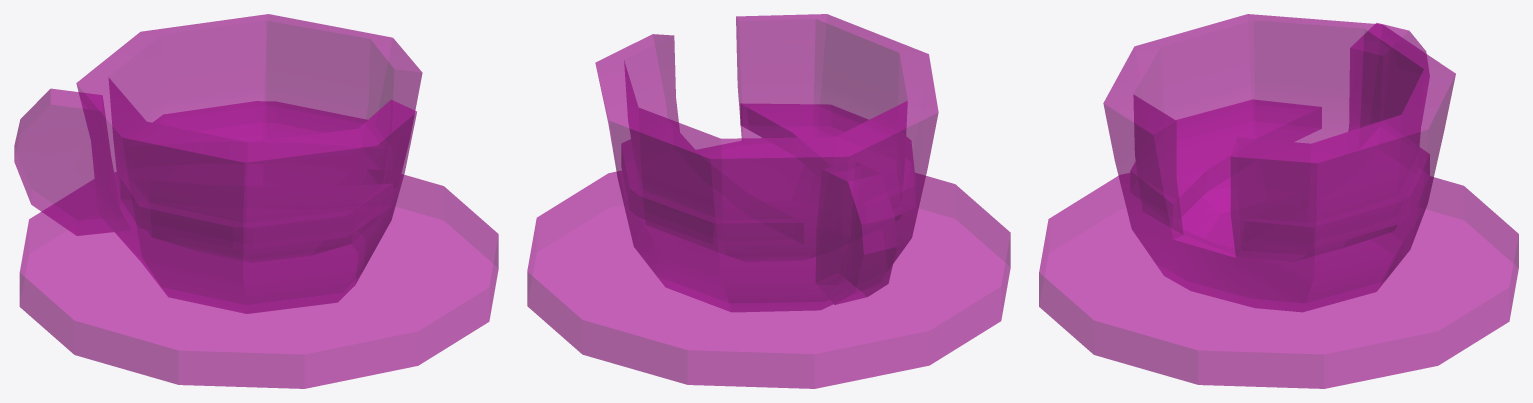
Rendered from SM_Prop_Teacup_Ride_01_Teacup_04_Collision.fbx.
The picture shows the model from 3 angles, left to right: view 1: azimuth 30°, elevation 25°; view 2: azimuth 150°, elevation 25°; view 3: azimuth 270°, elevation 25°; orthographic projection.
Visible parts, largest first — view 1: SM_Prop_Teacup_Ride_01_Teacup_04_Collision; view 2: SM_Prop_Teacup_Ride_01_Teacup_04_Collision; view 3: SM_Prop_Teacup_Ride_01_Teacup_04_Collision.
Part boxes in pixels (<box>): SM_Prop_Teacup_Ride_01_Teacup_04_Collision: <box>14,14,498,388</box>; SM_Prop_Teacup_Ride_01_Teacup_04_Collision: <box>527,14,1010,388</box>; SM_Prop_Teacup_Ride_01_Teacup_04_Collision: <box>1039,14,1518,388</box>.
Bounding box in the file's own units: 270 × 128 × 270.
